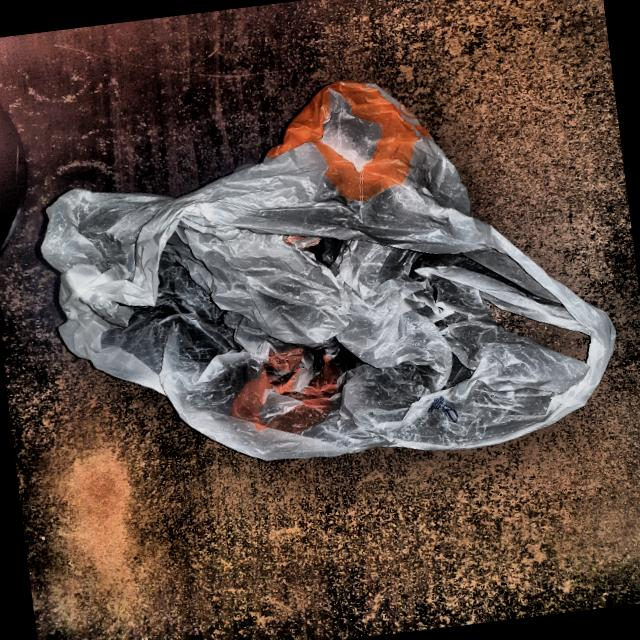plastic bag: (2, 46, 638, 538)
